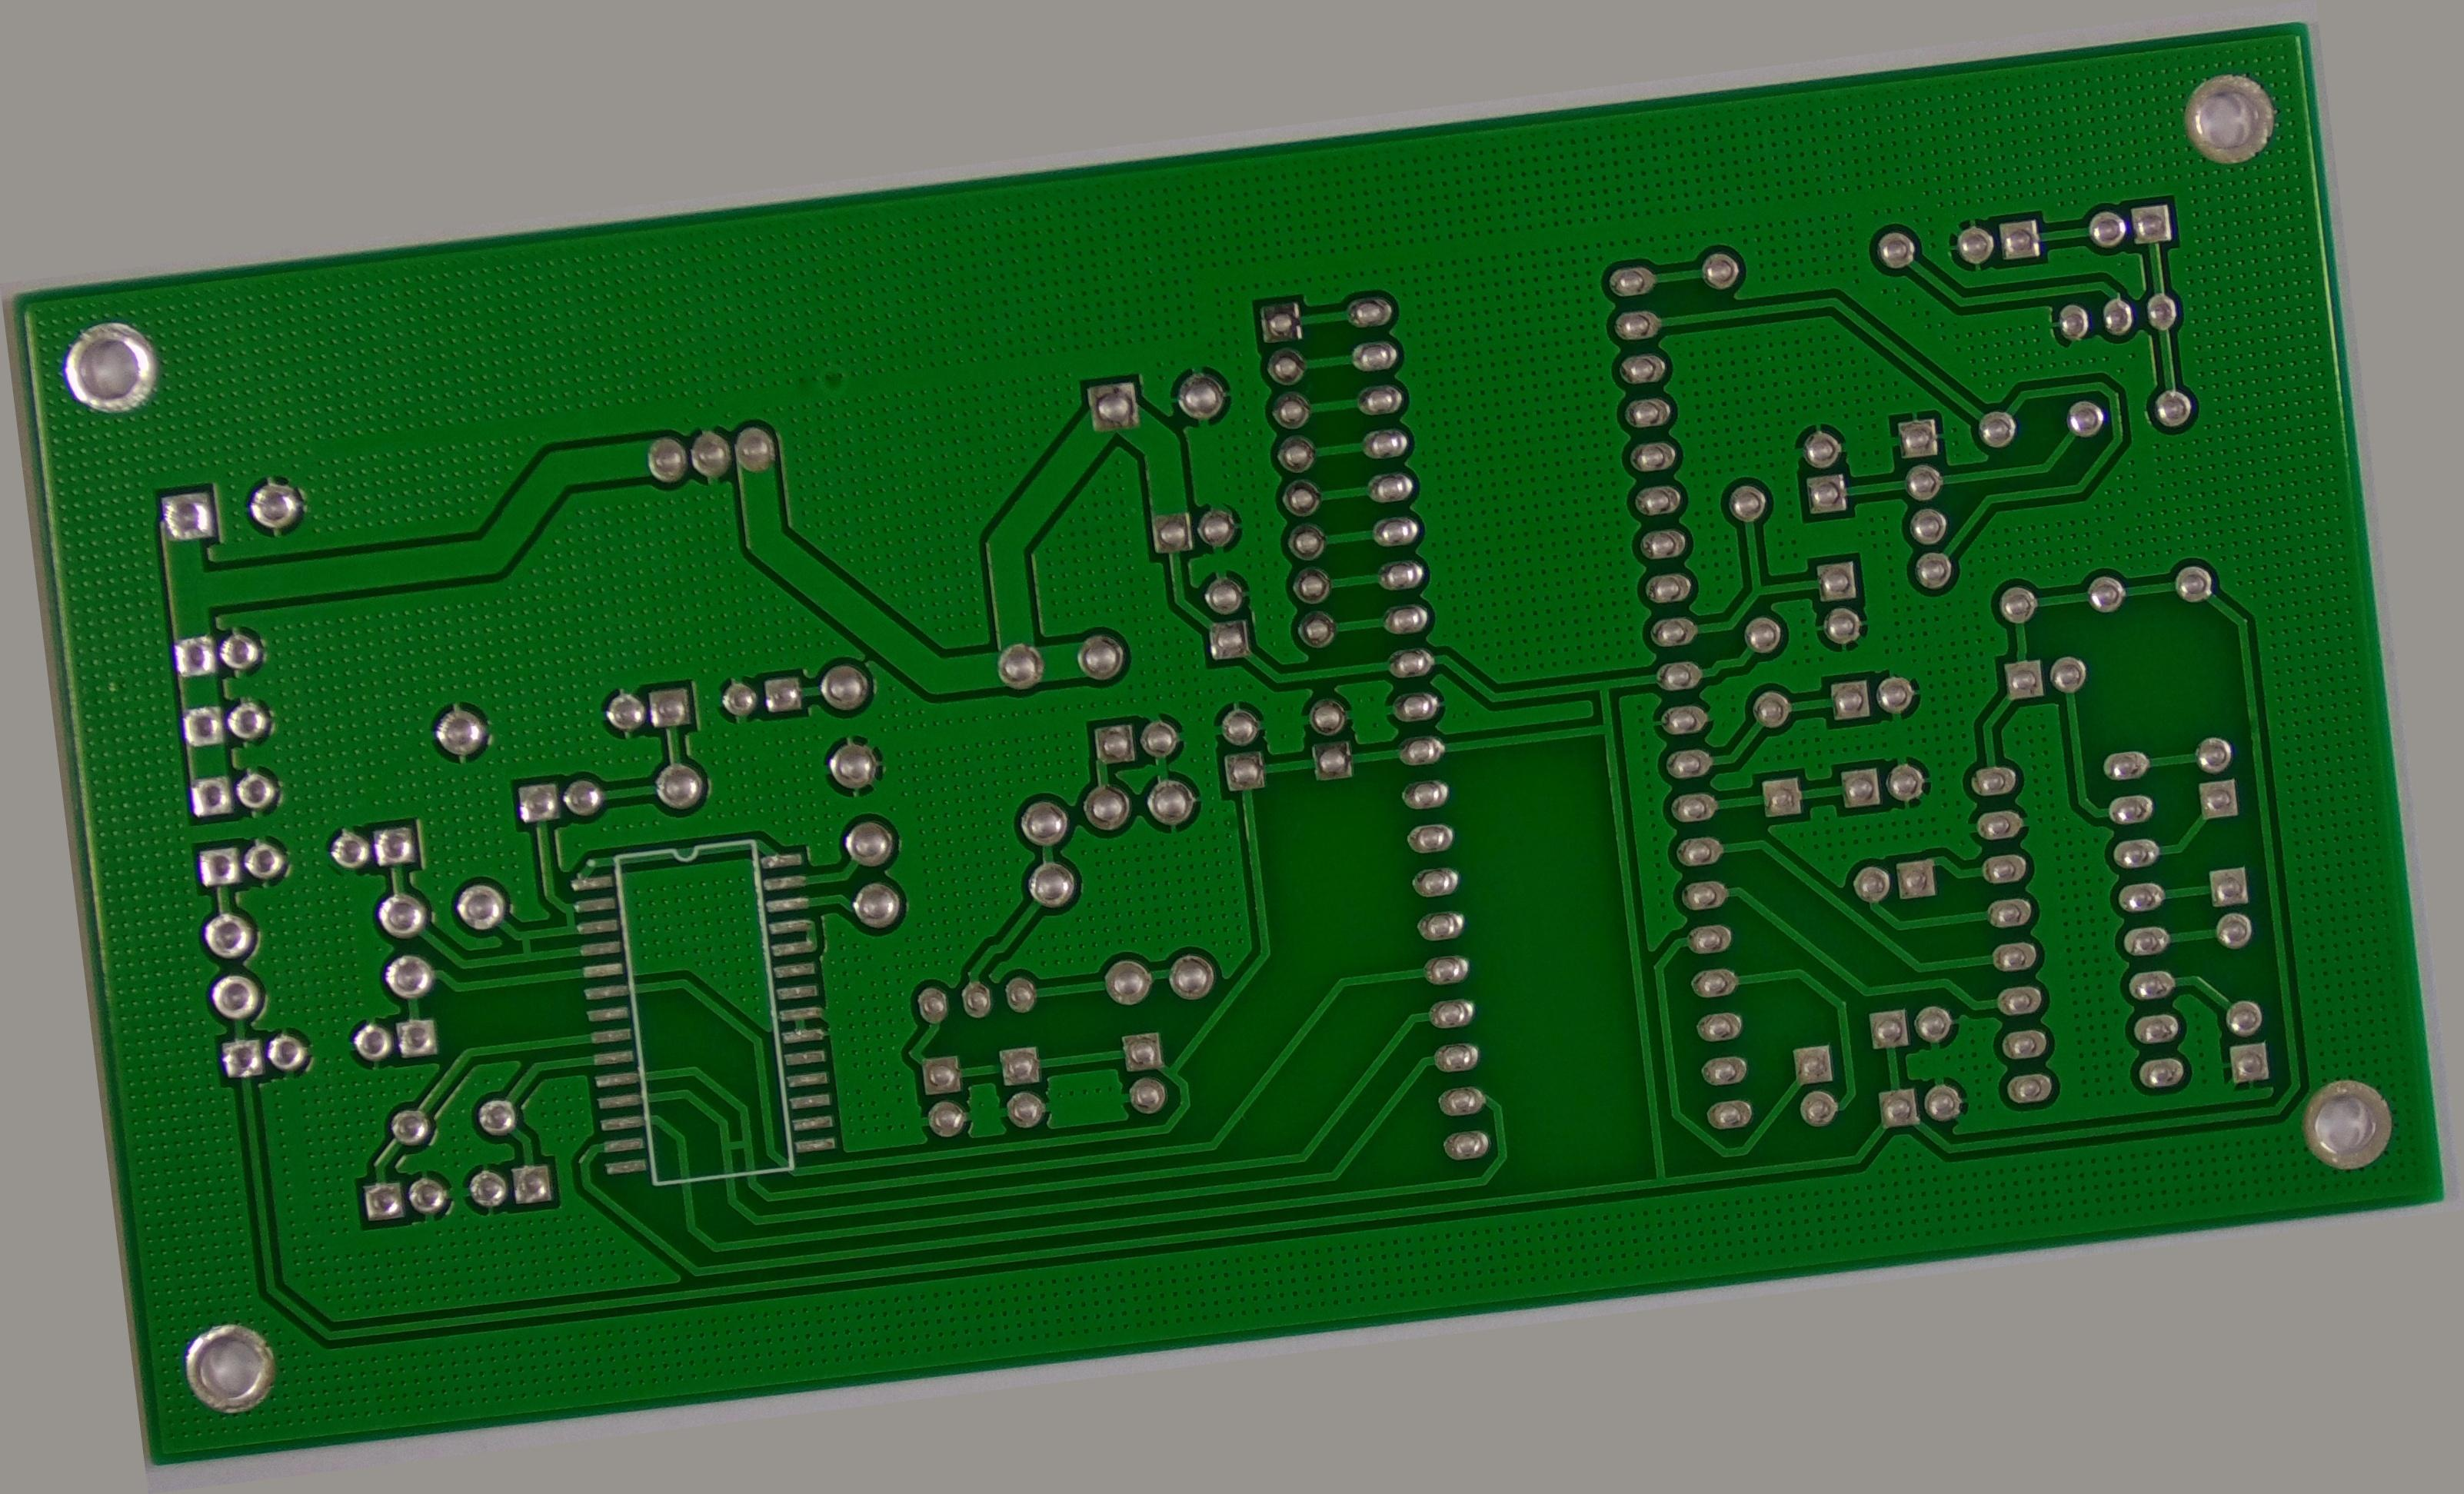short: (635, 1130, 683, 1186), (440, 861, 486, 910), (503, 832, 532, 876)
